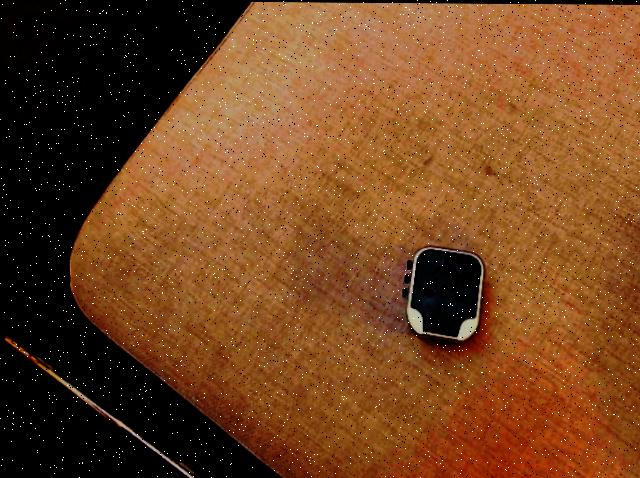adapter: (400, 244, 484, 343)
